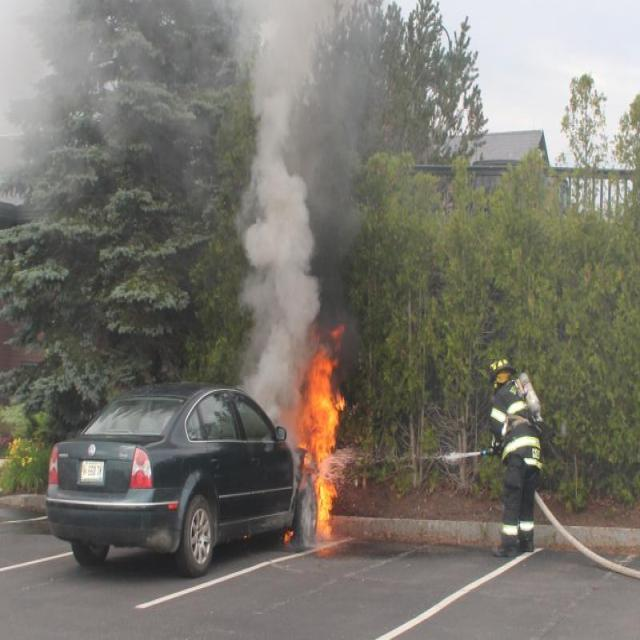Fire: (287, 321, 347, 543)
Smoke: (238, 0, 377, 442), (0, 0, 213, 212)
